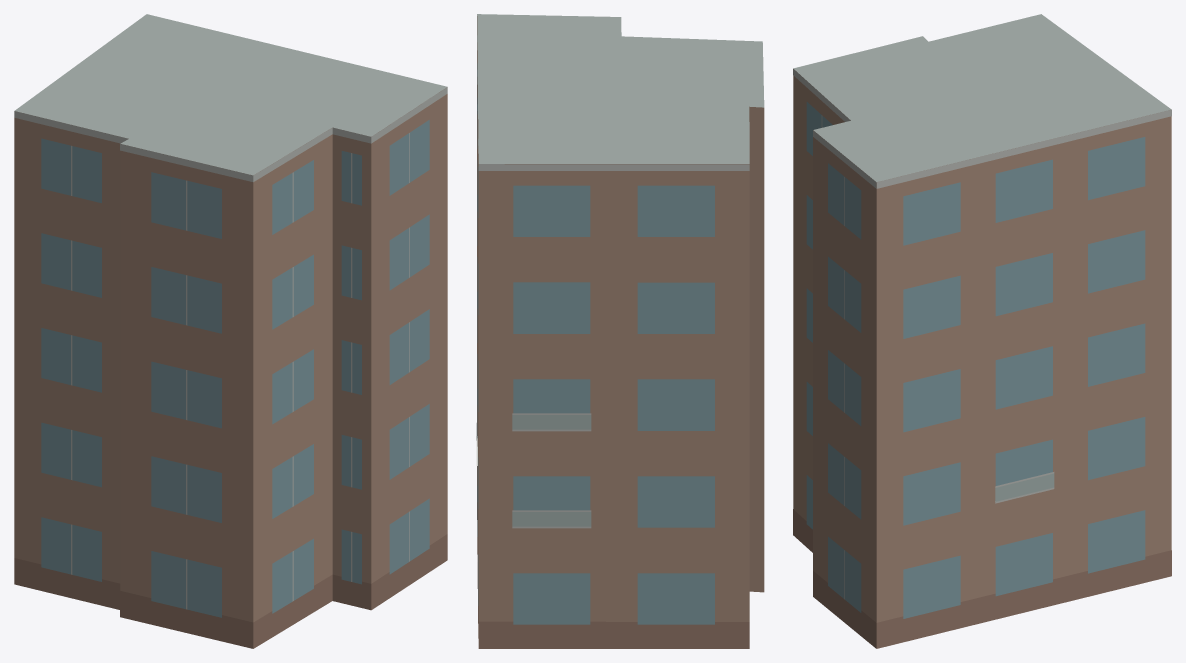
The model's file is survey-upis-32979845.glb.
The picture shows the model from 3 angles, left to right: view 1: azimuth 30°, elevation 25°; view 2: azimuth 150°, elevation 25°; view 3: azimuth 270°, elevation 25°; orthographic projection. The views are drawn at different scales.
Parts seen in each view (by area): view 1: survey-upis-32979845.tmp; view 2: survey-upis-32979845.tmp; view 3: survey-upis-32979845.tmp.
Part boxes in pixels (box(x1,y1,x2,y2)): survey-upis-32979845.tmp: box(14, 14, 447, 648); survey-upis-32979845.tmp: box(476, 14, 764, 648); survey-upis-32979845.tmp: box(793, 14, 1171, 648).
Size of the model in its own units: 13.15 by 17 by 12.51.
